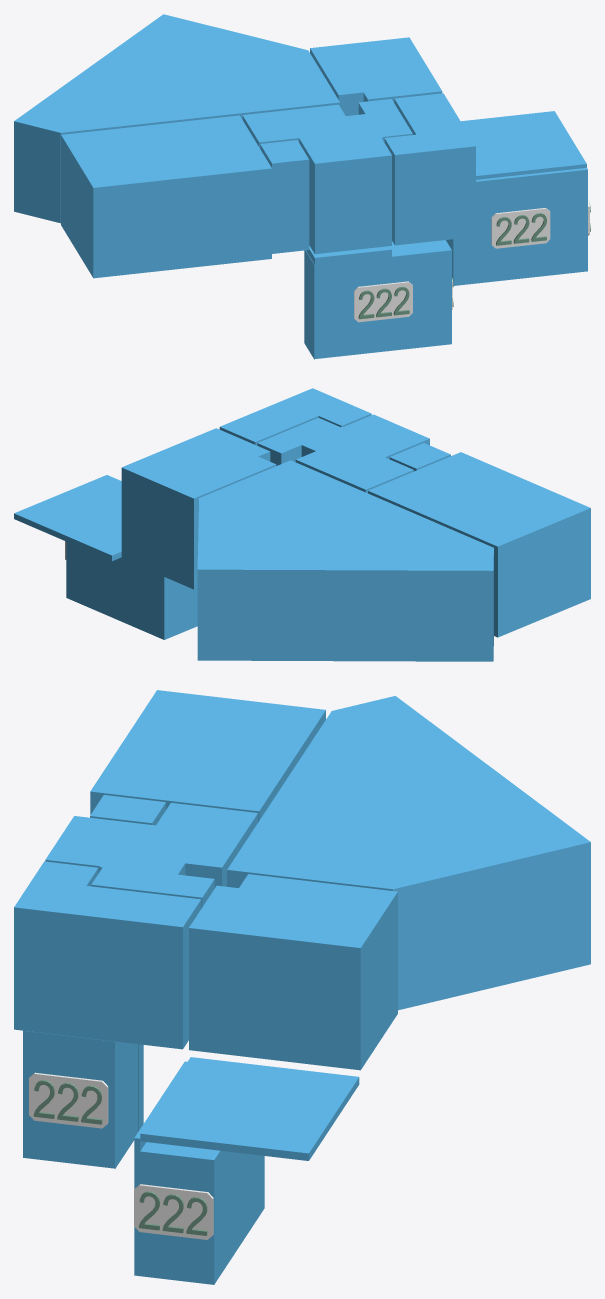
3 views of the same model, one above another, from view 1: azimuth 30°, elevation 25°; view 2: azimuth 150°, elevation 25°; view 3: azimuth 270°, elevation 25° (orthographic). The views are drawn at different scales.
Visible parts, largest first — view 1: g_3, g_2, g_6, g_1, g_9, g_8, g_7, g_10, g_4, g_0, g_5, g_22 (+1 smaller); view 2: g_2, g_3, g_7, g_1, g_4, g_10, g_6, g_8, g_5; view 3: g_2, g_7, g_6, g_3, g_10, g_1, g_4, g_0, g_14, g_26, g_8, g_5.
Boxes of the visible parts, <box> form: g_3: <box>61,115,271,278</box>; g_2: <box>14,14,339,223</box>; g_6: <box>384,93,475,245</box>; g_1: <box>446,168,587,285</box>; g_9: <box>304,241,409,359</box>; g_8: <box>303,138,391,254</box>; g_7: <box>310,37,442,115</box>; g_10: <box>461,111,586,179</box>; g_4: <box>242,99,412,149</box>; g_0: <box>404,240,451,348</box>; g_5: <box>260,140,309,253</box>; g_22: <box>491,208,550,248</box>; g_2: <box>197,460,493,661</box>; g_3: <box>368,452,590,637</box>; g_7: <box>121,428,276,589</box>; g_1: <box>66,541,197,639</box>; g_4: <box>257,417,413,493</box>; g_10: <box>14,475,121,561</box>; g_6: <box>219,388,371,445</box>; g_8: <box>344,414,429,453</box>; g_5: <box>389,443,450,471</box>; g_2: <box>227,696,590,1010</box>; g_7: <box>189,874,397,1070</box>; g_6: <box>14,861,201,1049</box>; g_3: <box>90,690,325,822</box>; g_10: <box>140,1057,359,1160</box>; g_1: <box>134,1061,264,1284</box>; g_4: <box>91,803,257,908</box>; g_0: <box>23,1030,137,1168</box>; g_14: <box>29,1072,108,1128</box>; g_26: <box>134,1184,213,1239</box>; g_8: <box>45,816,131,873</box>; g_5: <box>90,795,165,825</box>.
Bounding box in the file's own units: 14.37 × 5.2 × 10.27.
